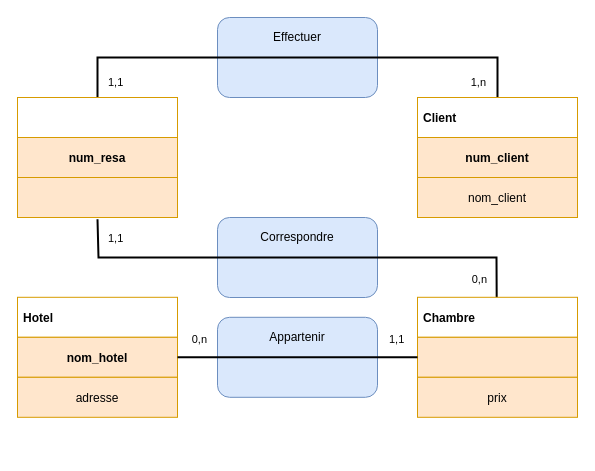
Image size: 595x471. Some labels were removed from this diagram. The centre of each missing label's shape, as x and y in pixels:
"date_resa" goes at (x=97, y=197).
"num_ch" goes at (x=497, y=356).
"Reservation" goes at (x=97, y=117).
